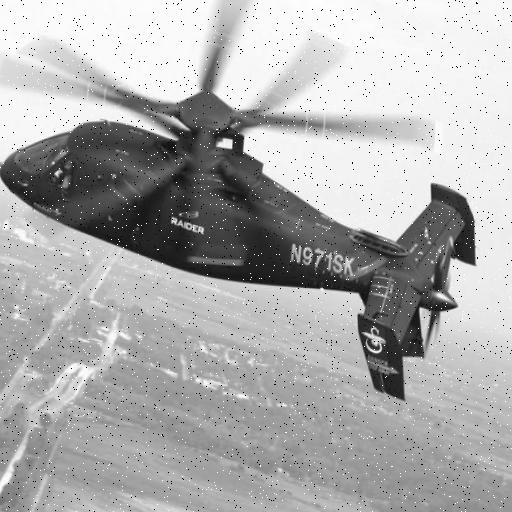helicopter: (1, 1, 495, 407)
